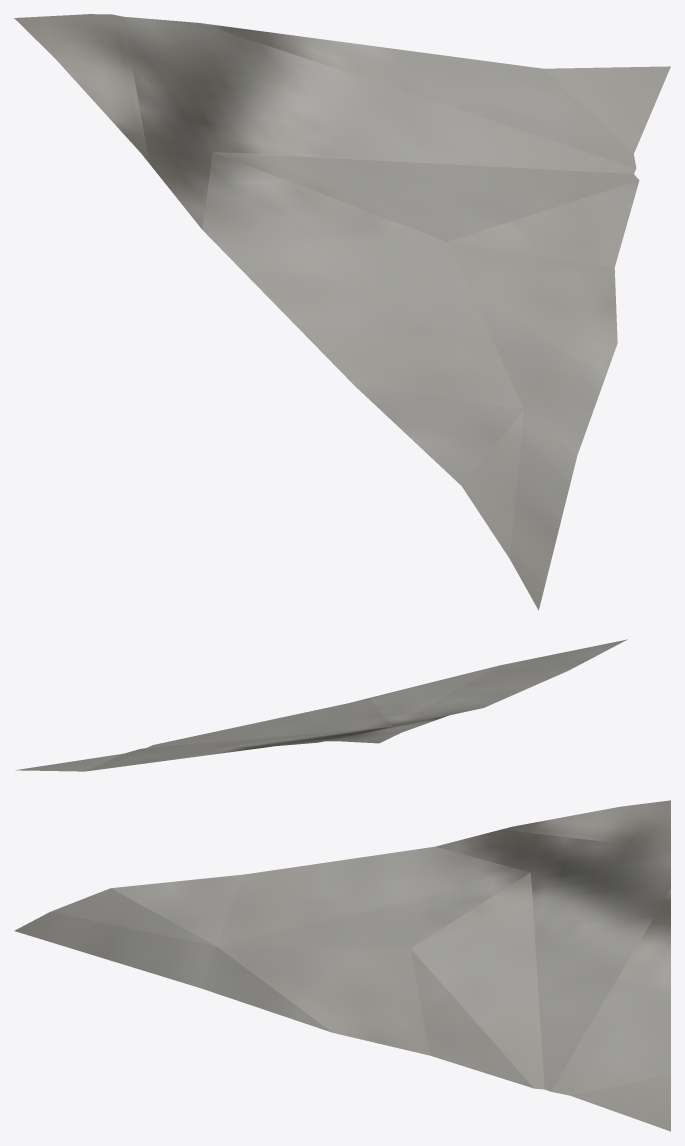
The picture shows the model from 3 angles, top to bottom: view 1: azimuth 30°, elevation 25°; view 2: azimuth 150°, elevation 25°; view 3: azimuth 270°, elevation 25°; orthographic projection. The views are drawn at different scales.
Size of the model in its own units: 0.0994 by 0.0302 by 0.1375.
1 material, 1 textured.
